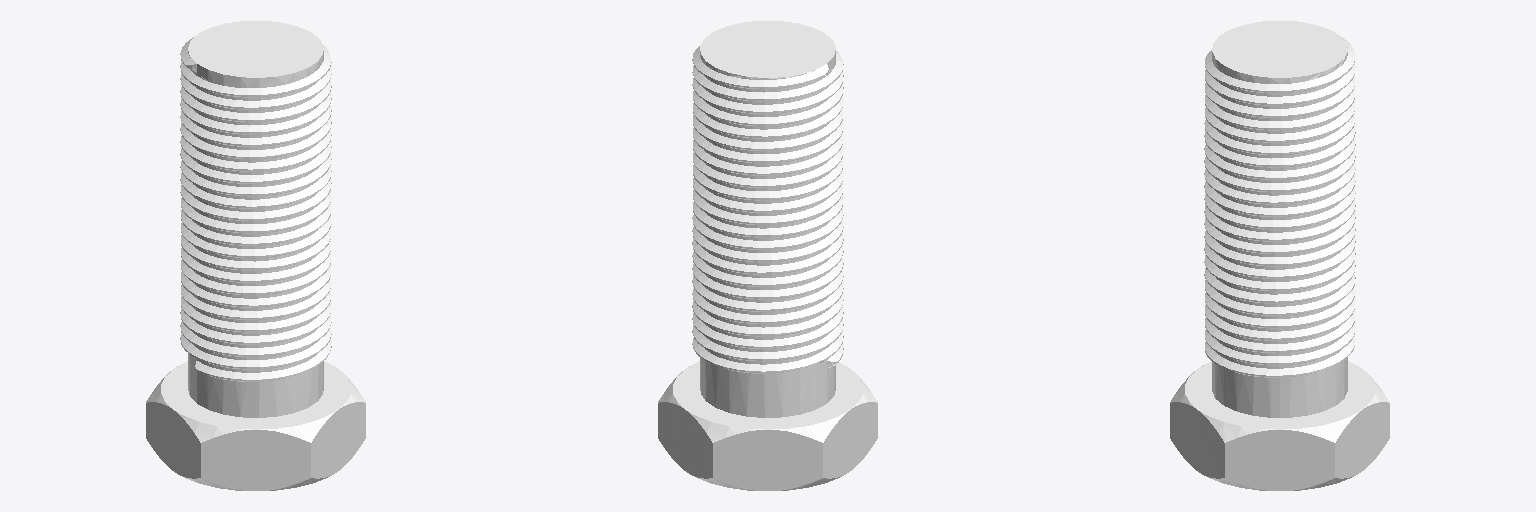
robot.urdf — M10_bolt:
<?xml version="1.0" encoding="utf-8"?>
<!-- This URDF was automatically created by SolidWorks to URDF Exporter! Originally created by [author] ([email redacted]) 
     Commit Version: 1.6.0-4-g7f85cfe  Build Version: 1.6.7995.38578
     For more information, please see http://wiki.ros.org/sw_urdf_exporter -->
<robot
  name="M10_bolt">
  <link
    name="M10_bolt_base_link">
    <inertial>
      <origin
        xyz="6.93889390390723E-18 6.93889390390723E-18 -1.09287578986539E-16"
        rpy="0 0 0" />
      <mass
        value="0.00318400891749442" />
      <inertia
        ixx="3.396368950263E-07"
        ixy="-9.16209760004126E-12"
        ixz="1.11626490079105E-12"
        iyy="3.3963494653609E-07"
        iyz="-1.52086242243008E-10"
        izz="5.45645313298774E-08" />
    </inertial>
    <visual>
      <origin
        xyz="0 0 0"
        rpy="0 0 0" />
      <geometry>
        <mesh
          filename="package://M10_bolt/meshes/M10_bolt_base_link.dae" />
      </geometry>
      <material
        name="">
        <color
          rgba="1 1 1 1" />
      </material>
    </visual>
    <collision>
      <origin
        xyz="0 0 0"
        rpy="0 0 0" />
      <geometry>
        <mesh
          filename="package://M10_bolt/meshes/M10_bolt_base_link.dae" />
      </geometry>
    </collision>
  </link>
</robot>

--- Render facts (derived) ---
Views: 3 orthographic renders of the robot side by side, from view 1: azimuth 30°, elevation 25°; view 2: azimuth 150°, elevation 25°; view 3: azimuth 270°, elevation 25°.
Model M10_bolt with 1 links and 0 joints (none), rooted at M10_bolt_base_link, posed all joints at 0.
Visible links, largest first — view 1: M10_bolt_base_link; view 2: M10_bolt_base_link; view 3: M10_bolt_base_link.
Boxes of the visible links, left/top/right/bottom form: M10_bolt_base_link: left=146, top=20, right=365, bottom=490; M10_bolt_base_link: left=658, top=20, right=877, bottom=490; M10_bolt_base_link: left=1170, top=21, right=1389, bottom=490.
Size in the robot's own frame: 0.014 by 0.0162 by 0.0325 metres.
Meshes: 1 distinct files referenced, 1 mesh visuals loaded (1 Collada DAE).